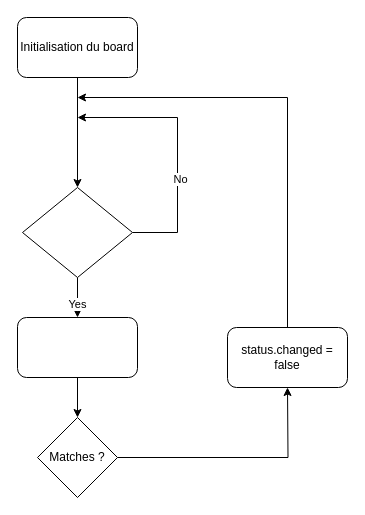
The diagram is 365 pixels wide and 515 high, and some of its shapes have lost their labels. The shapes that lost their labels are listed below. From the top down, each one's centre as x and y in pixels, then its label:
At (x=77, y=232): "Input utilisateur ?".
At (x=77, y=347): "status.changed = true".
